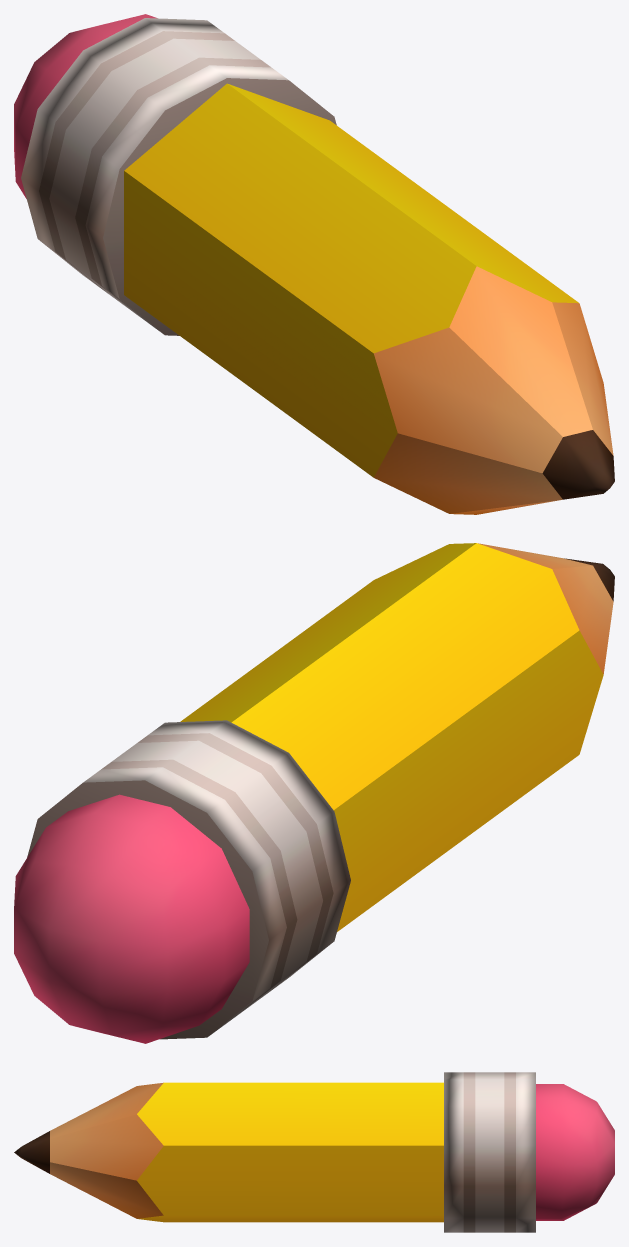
The model's file is pencil.fbx.
The picture shows the model from 3 angles, top to bottom: view 1: azimuth 30°, elevation 25°; view 2: azimuth 150°, elevation 25°; view 3: azimuth 270°, elevation 25°; orthographic projection. The views are drawn at different scales.
Visible parts, largest first — view 1: pencil; view 2: pencil; view 3: pencil.
Part boxes in pixels (<box>): pencil: <box>14,14,614,514</box>; pencil: <box>14,543,614,1043</box>; pencil: <box>14,1072,614,1232</box>.
Size of the model in its own units: 4.74 by 4.74 by 17.71.
